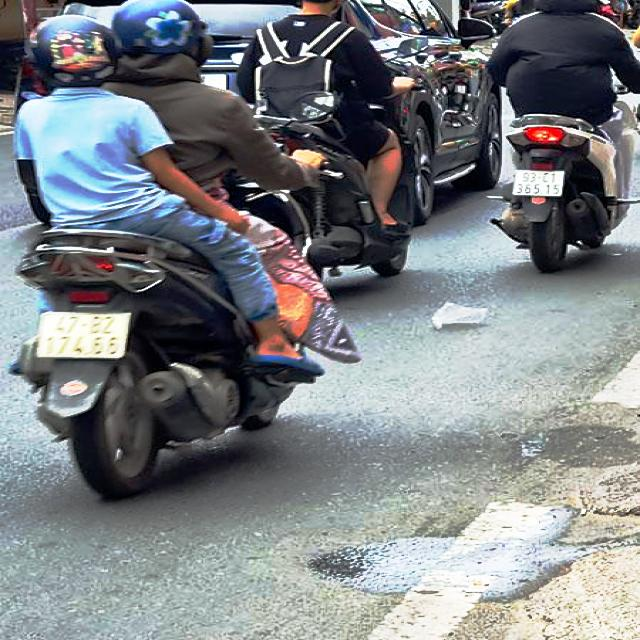license_plate: (37, 314, 133, 359)
